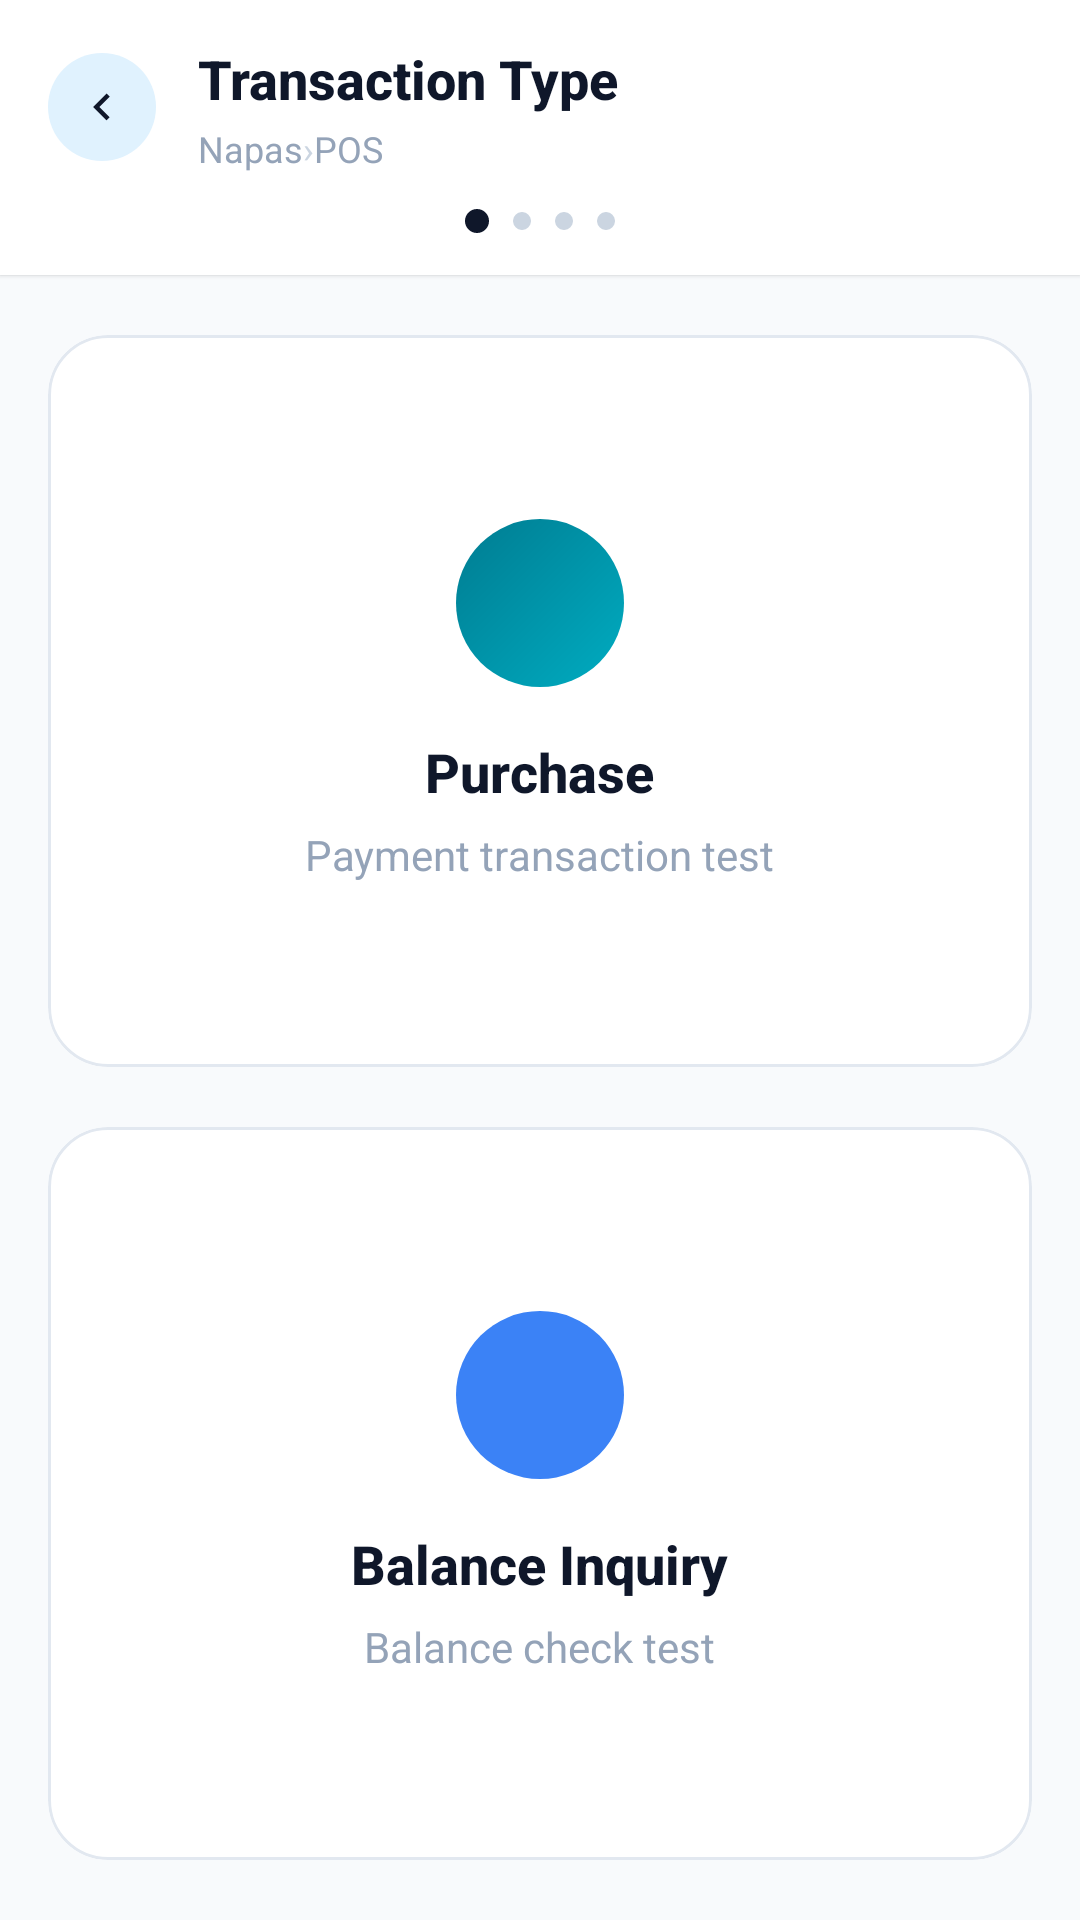

Where to tap for icons on this 1080px x 1920px app screen, as point (x, y):
back: point (102, 107)
